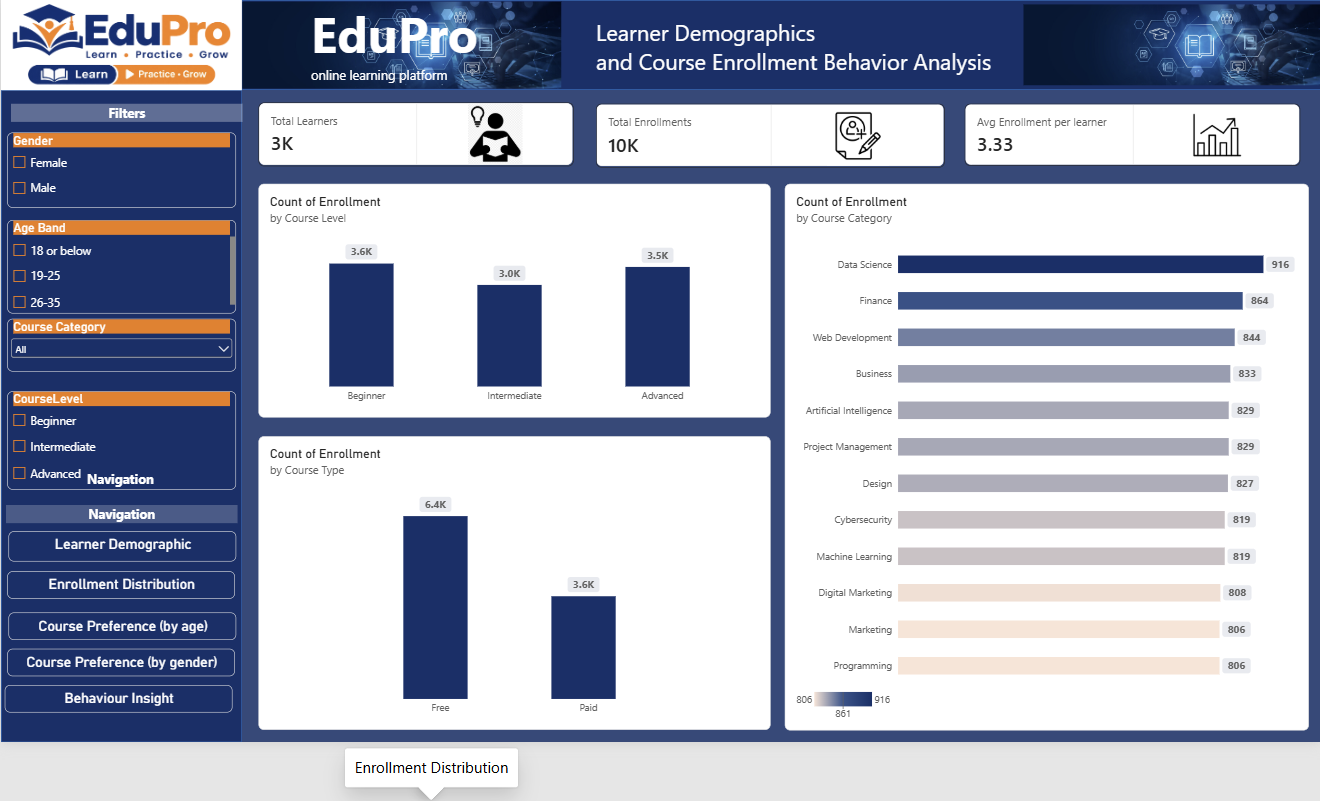

The page's visual inventory and layout, read from the dashboard file:
{"tool":"powerbi","page":{"name":"Enrollment Distribution","canvas":[1920,1080],"ordinal":1},"visuals":[{"type":"shape","box":[350.6,0,1569.8,130.8],"z":0},{"type":"image","box":[350.6,0,464,130.8],"z":1000},{"type":"cardVisual","fields":{"Data":["EduPro Online Platform Transactions.Total Enrollments"]},"box":[865.1,150,507.6,92.4],"z":2000},{"type":"shape","box":[0,130.8,350.6,948.8],"z":3000},{"type":"image","box":[0,0,350.6,130.8],"z":4000},{"type":"slicer","fields":{"Values":["EduPro Online Platform Courses.CourseCategory"]},"box":[8.7,464,333.1,76.7],"z":5000},{"type":"textbox","box":[865.1,26.2,941.9,97.7],"z":6000},{"type":"image","box":[1487.8,0,432.6,130.8],"z":7000},{"type":"textbox","box":[450,0,334.9,150],"z":8000},{"type":"textbox","box":[5.2,683.7,336.6,26.2],"z":9000},{"type":"barChart","fields":{"Category":["EduPro Online Platform Courses.CourseCategory"],"Y":["Count(EduPro Online Platform Transactions.TransactionID)"]},"box":[1140.7,266.9,762.2,795.4],"z":10000},{"type":"columnChart","fields":{"Category":["EduPro Online Platform Courses.CourseType"],"Y":["Count(EduPro Online Platform Transactions.TransactionID)"]},"box":[375,634.9,744.8,427.3],"z":11000},{"type":"clusteredColumnChart","fields":{"Category":["EduPro Online Platform Courses.CourseLevel"],"Y":["Count(EduPro Online Platform Transactions.TransactionID)"]},"box":[375,266.9,744.8,340.1],"z":12000},{"type":"cardVisual","fields":{"Data":["Count(EduPro Online Platform Users.UserID)"]},"box":[375,148.3,458.7,92.4],"z":13000},{"type":"cardVisual","fields":{"Data":["EduPro Online Platform Courses.Avg Course taken per learner"]},"box":[1402.3,150,488.4,90.7],"z":14000},{"type":"slicer","fields":{"Values":["EduPro Online Platform Users.Gender"]},"box":[8.7,191.9,333.1,109.9],"z":15000},{"type":"slicer","fields":{"Values":["EduPro Online Platform Users.Age Band"]},"box":[8.7,319.2,333.1,136],"z":16000},{"type":"slicer","fields":{"Values":["EduPro Online Platform Courses.CourseLevel"]},"box":[8.7,568.6,333.1,143],"z":17000},{"type":"textbox","box":[14,150,336.6,26.2],"z":18000},{"type":"textbox","box":[7,734.3,336.6,26.2],"z":19000},{"type":"actionButton","title":"Enrollment Distribution","box":[8.7,830.2,331.4,40.1],"z":20000},{"type":"actionButton","title":"Learner Demographic","box":[10.5,772.7,331.4,43.6],"z":21000},{"type":"actionButton","title":"Course Preference (by age)","box":[10.5,891.3,331.4,40.1],"z":22000},{"type":"actionButton","title":"Course Preference (by gender)","box":[8.7,943.6,331.4,40.1],"z":23000},{"type":"actionButton","title":"Behaviour Insight","box":[5.2,995.9,331.4,40.1],"z":24000}]}

Visuals, with their boxes on the page's 1920x1080 design canvas (x1, y1, x2, y2). These are canvas units, not pixel positions in the 1320x801 screenshot, which may show the page scaled, cropped or inside an application window:
shape: <box>351,0,1920,131</box>
image: <box>351,0,815,131</box>
cardVisual - EduPro Online Platform Transactions.Total Enrollments: <box>865,150,1373,242</box>
shape: <box>0,131,351,1080</box>
image: <box>0,0,351,131</box>
slicer - EduPro Online Platform Courses.CourseCategory: <box>9,464,342,541</box>
textbox: <box>865,26,1807,124</box>
image: <box>1488,0,1920,131</box>
textbox: <box>450,0,785,150</box>
textbox: <box>5,684,342,710</box>
barChart - EduPro Online Platform Courses.CourseCategory x Count(EduPro Online Platform Transactions.TransactionID): <box>1141,267,1903,1062</box>
columnChart - EduPro Online Platform Courses.CourseType x Count(EduPro Online Platform Transactions.TransactionID): <box>375,635,1120,1062</box>
clusteredColumnChart - EduPro Online Platform Courses.CourseLevel x Count(EduPro Online Platform Transactions.TransactionID): <box>375,267,1120,607</box>
cardVisual - Count(EduPro Online Platform Users.UserID): <box>375,148,834,241</box>
cardVisual - EduPro Online Platform Courses.Avg Course taken per learner: <box>1402,150,1891,241</box>
slicer - EduPro Online Platform Users.Gender: <box>9,192,342,302</box>
slicer - EduPro Online Platform Users.Age Band: <box>9,319,342,455</box>
slicer - EduPro Online Platform Courses.CourseLevel: <box>9,569,342,712</box>
textbox: <box>14,150,351,176</box>
textbox: <box>7,734,344,760</box>
"Enrollment Distribution" actionButton: <box>9,830,340,870</box>
"Learner Demographic" actionButton: <box>10,773,342,816</box>
"Course Preference (by age)" actionButton: <box>10,891,342,931</box>
"Course Preference (by gender)" actionButton: <box>9,944,340,984</box>
"Behaviour Insight" actionButton: <box>5,996,337,1036</box>
